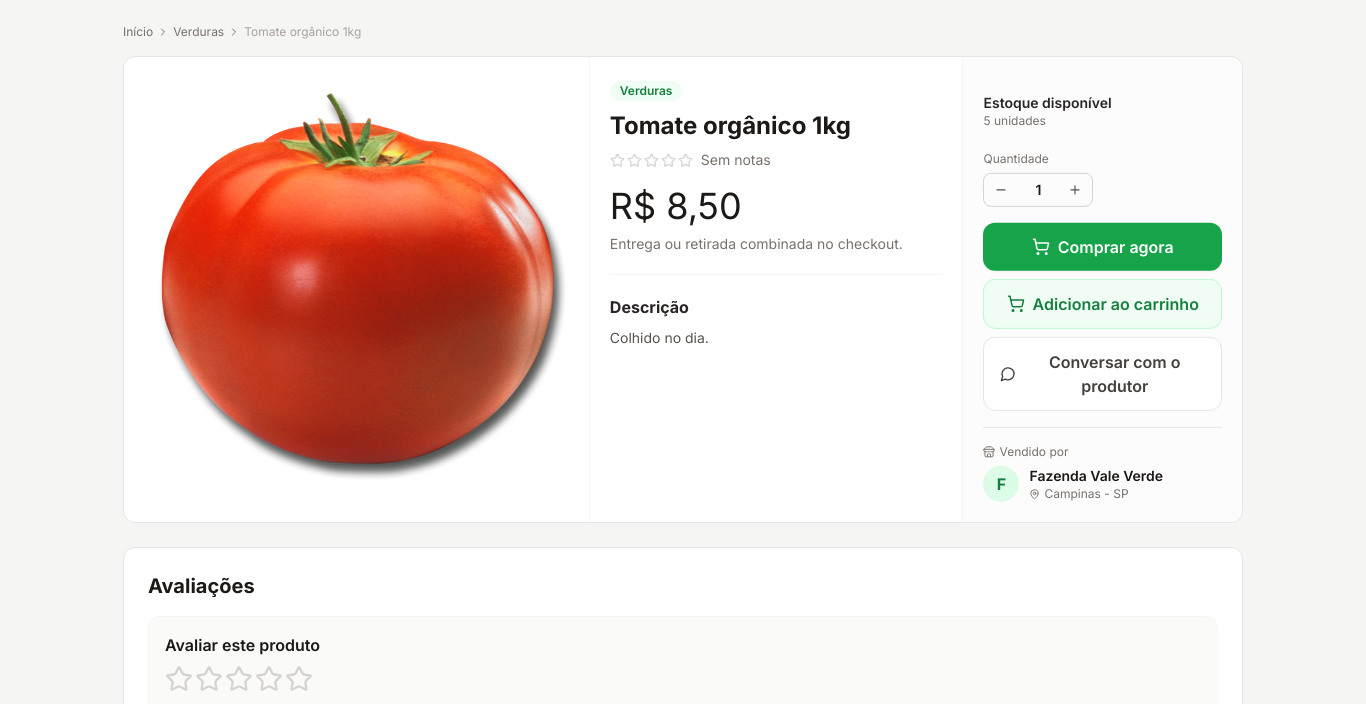
Test case: adiciona a quantidade escolhida ao carrinho e confirma a ação
Check: the heading "Tomate orgânico 1kg" is shown, box left=610, top=111, right=851, bottom=140
Click the button "Adicionar ao carrinho": (1103, 304) left=984, top=279, right=1222, bottom=329
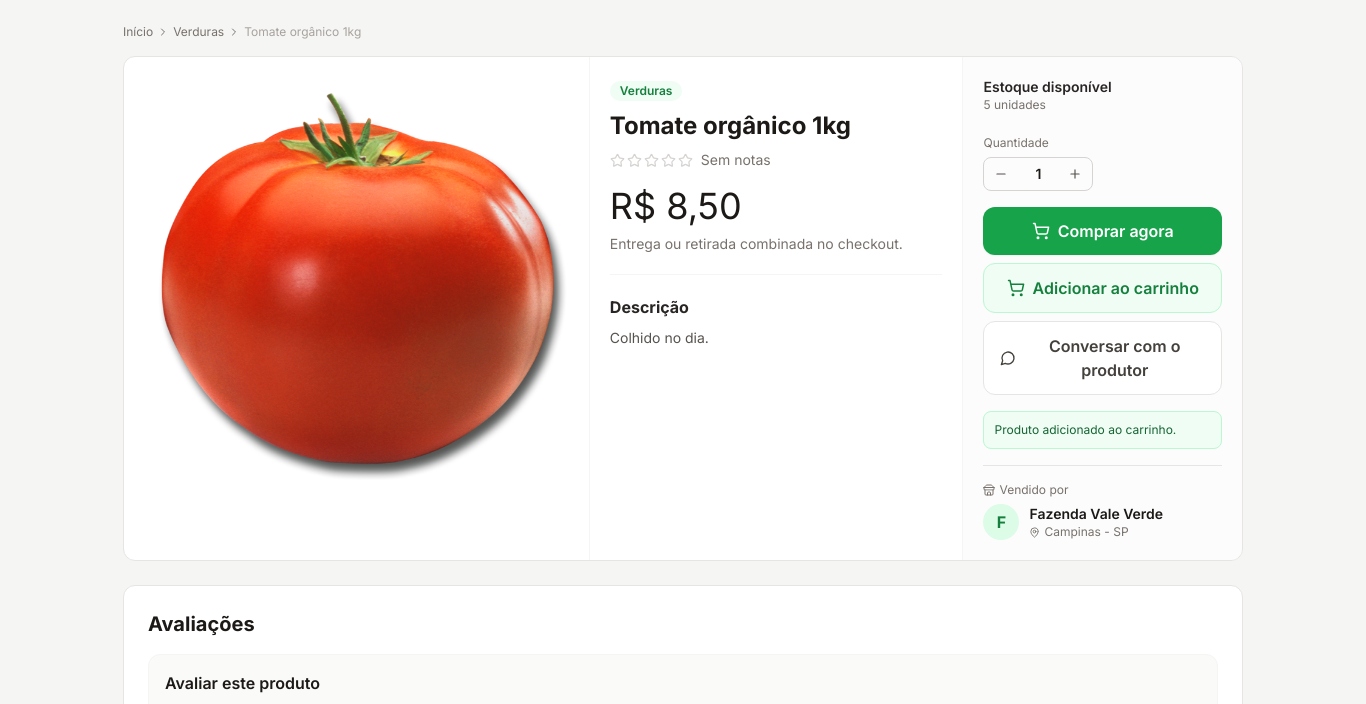
Check: the message shows "Produto adicionado ao carrinho", box left=994, top=422, right=1176, bottom=437
